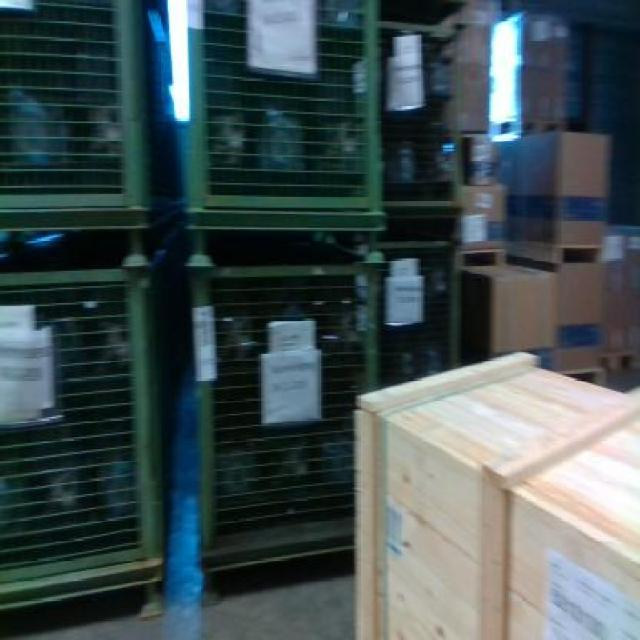pallet: (598, 343, 640, 378)
